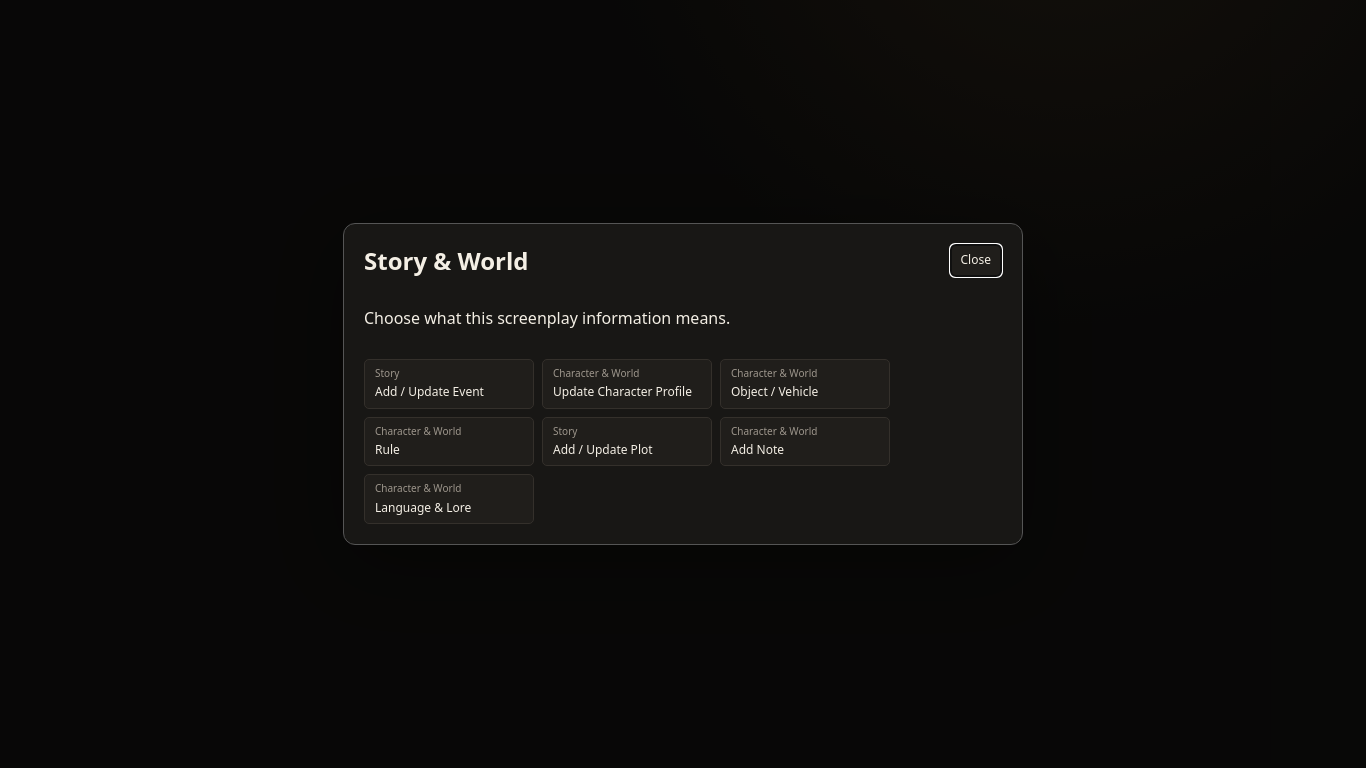
updates Vehicle condition from this Scene without changing its base description or screenplay source
Click the button "Character & World Object / Vehicle" at point(805, 384), box x1=720 y1=359 x2=890 y2=409
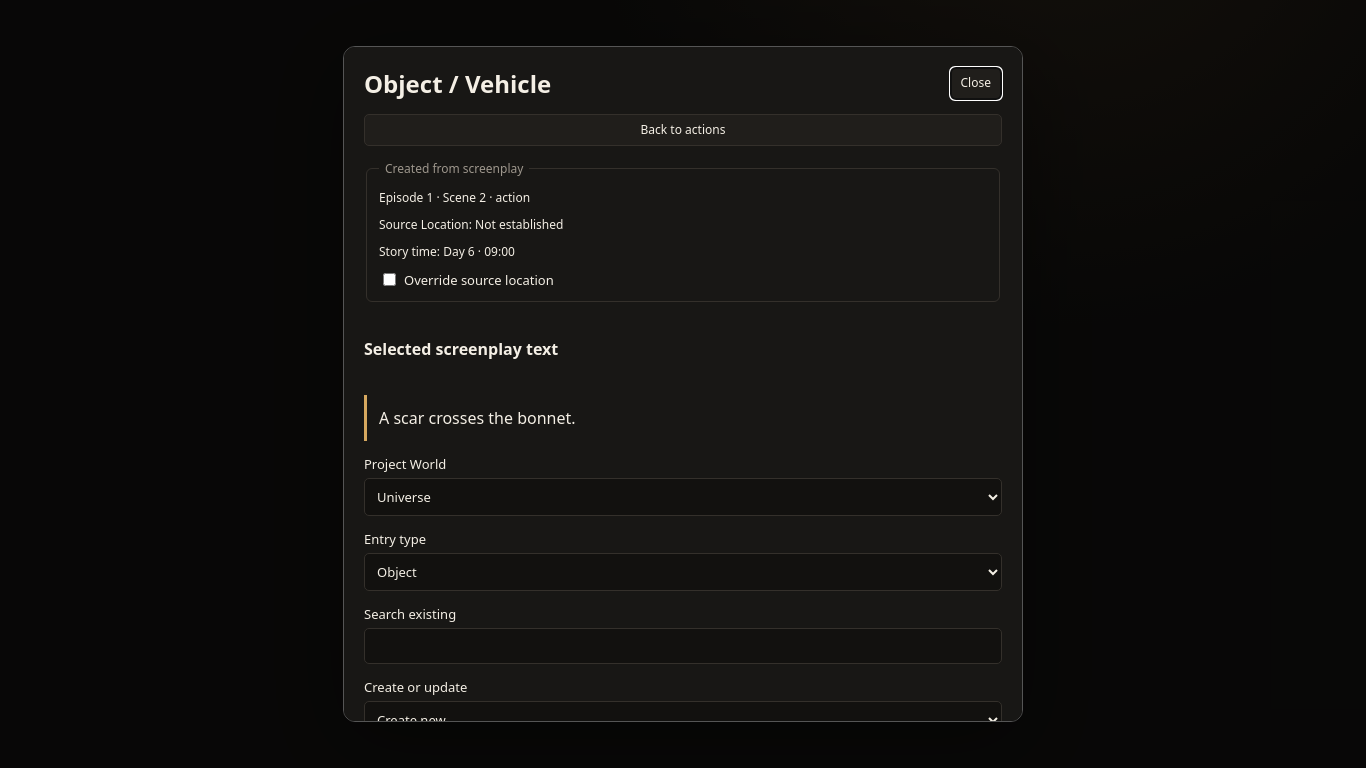
Select "Vehicle" in the dropdown labelled "Entry type" at point(683, 572), box x1=364 y1=553 x2=1002 y2=591
Select "Apple’s Car" in the dropdown labelled "Create or update" at point(683, 720), box x1=364 y1=701 x2=1002 y2=739
(page scrolled)
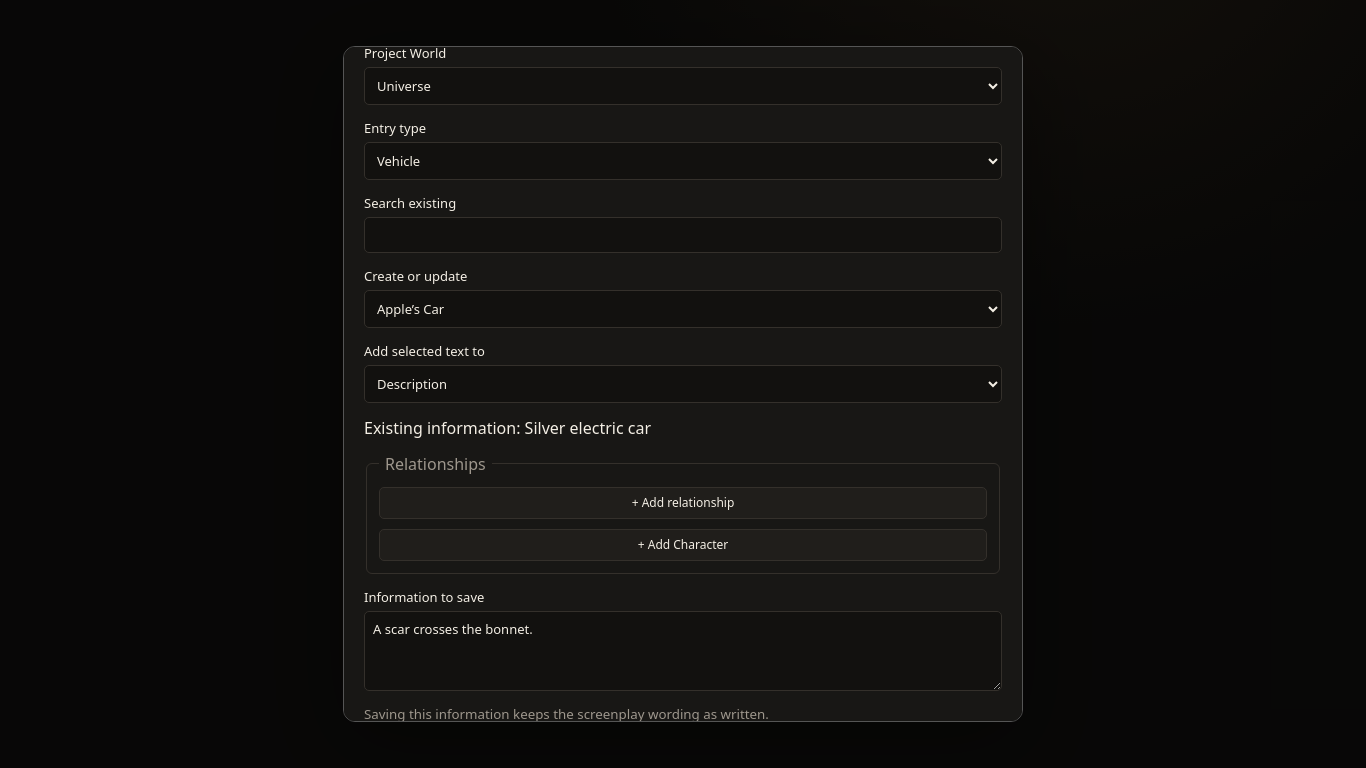
Select "Condition" in the dropdown labelled "Add selected text to" at point(683, 384), box x1=364 y1=365 x2=1002 y2=403
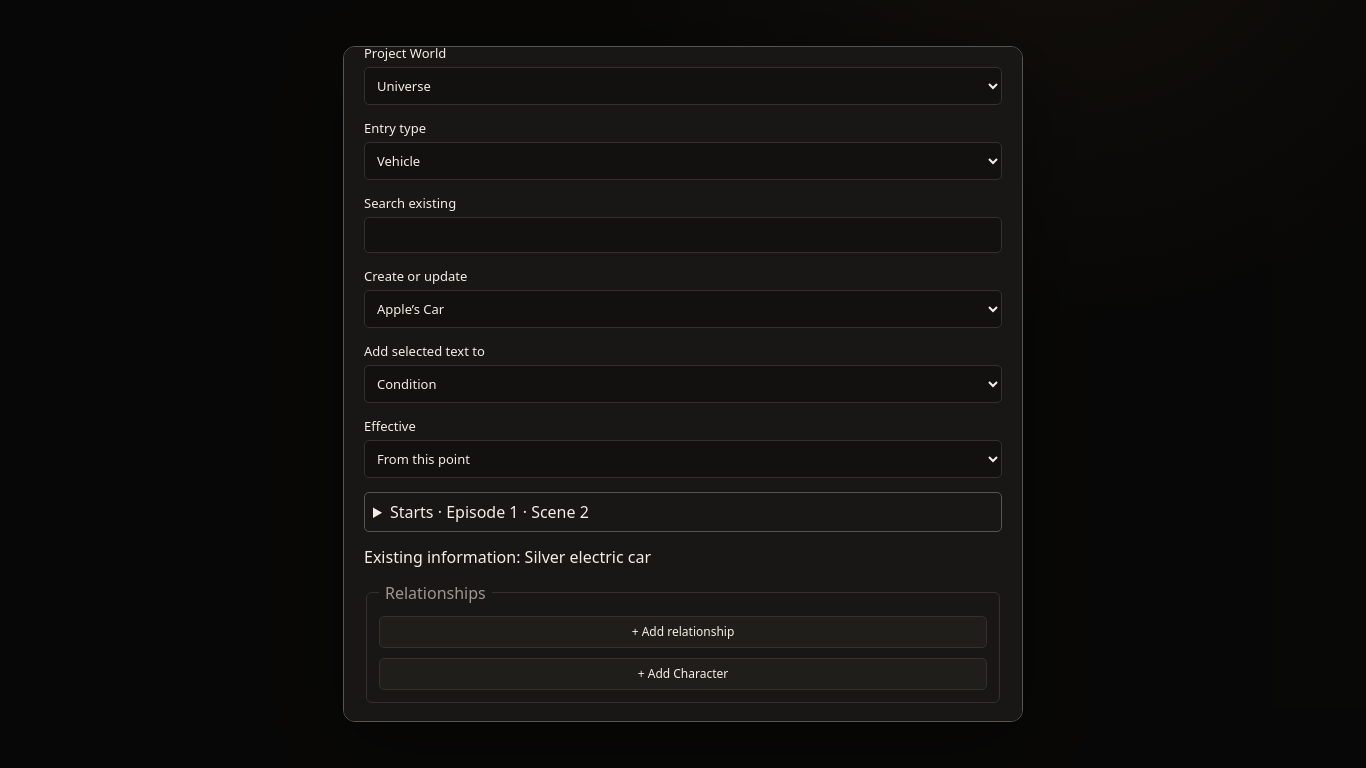
Select "From this point" in the dropdown labelled "Effective" at point(683, 459), box x1=364 y1=440 x2=1002 y2=478
(page scrolled)
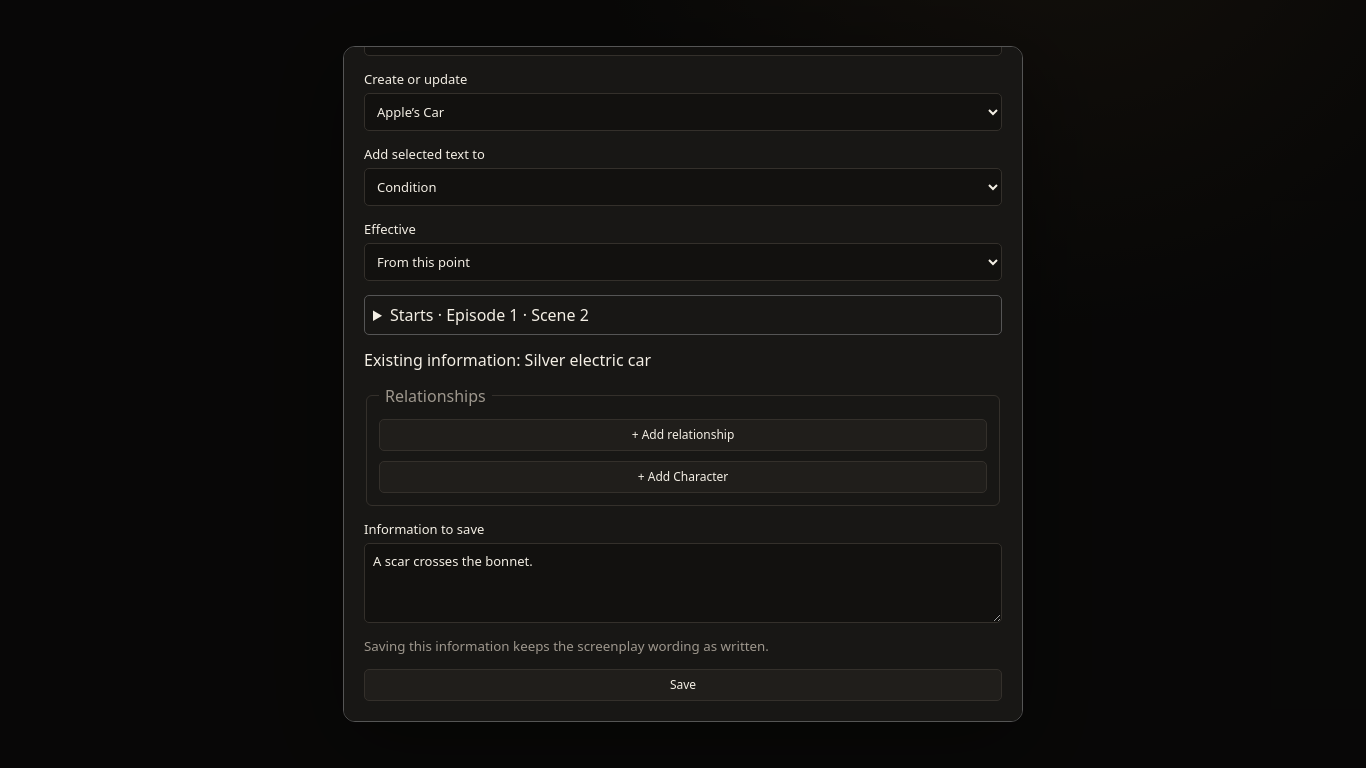
Replace the text in the text box labelled "Information to save" with "Bonnet scraped" at point(683, 583), box x1=364 y1=543 x2=1002 y2=623
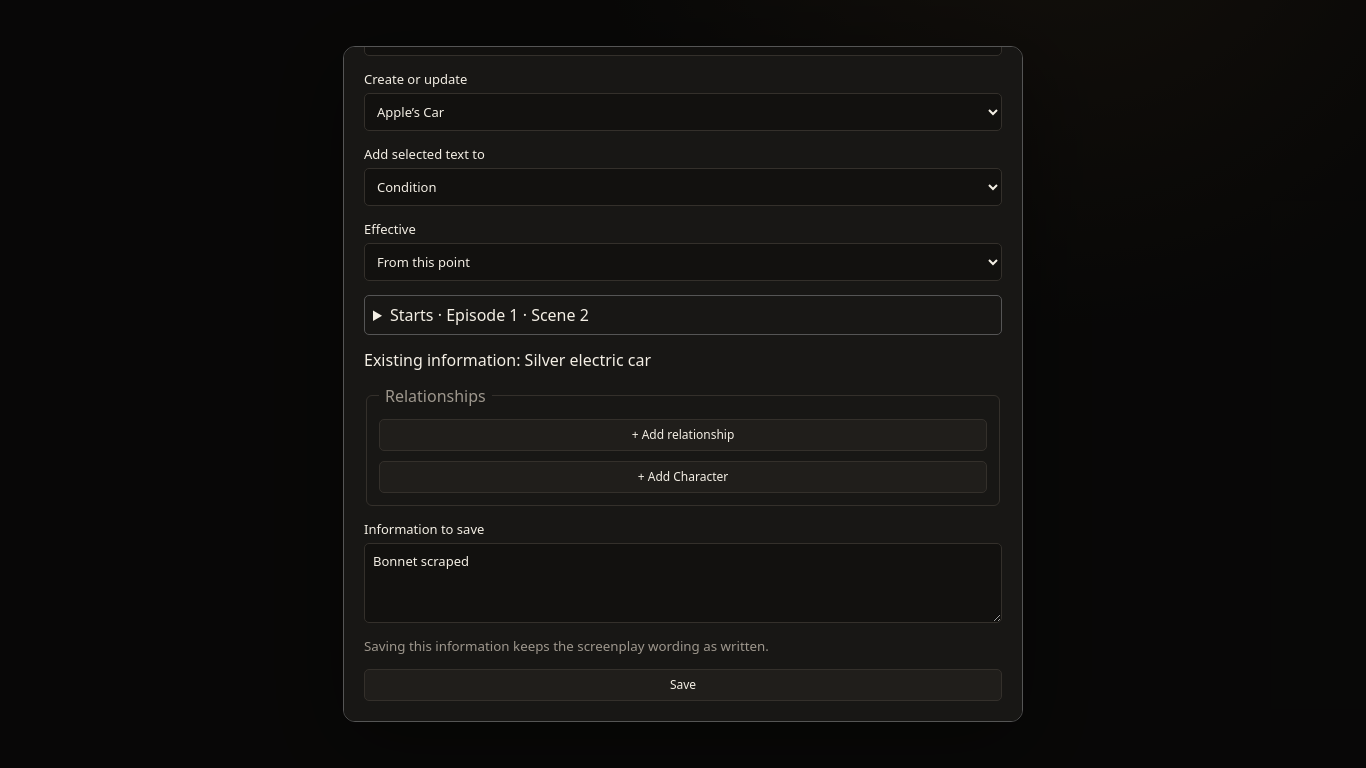
Click the button "Save" at point(683, 685), box x1=364 y1=669 x2=1002 y2=701
(page scrolled)
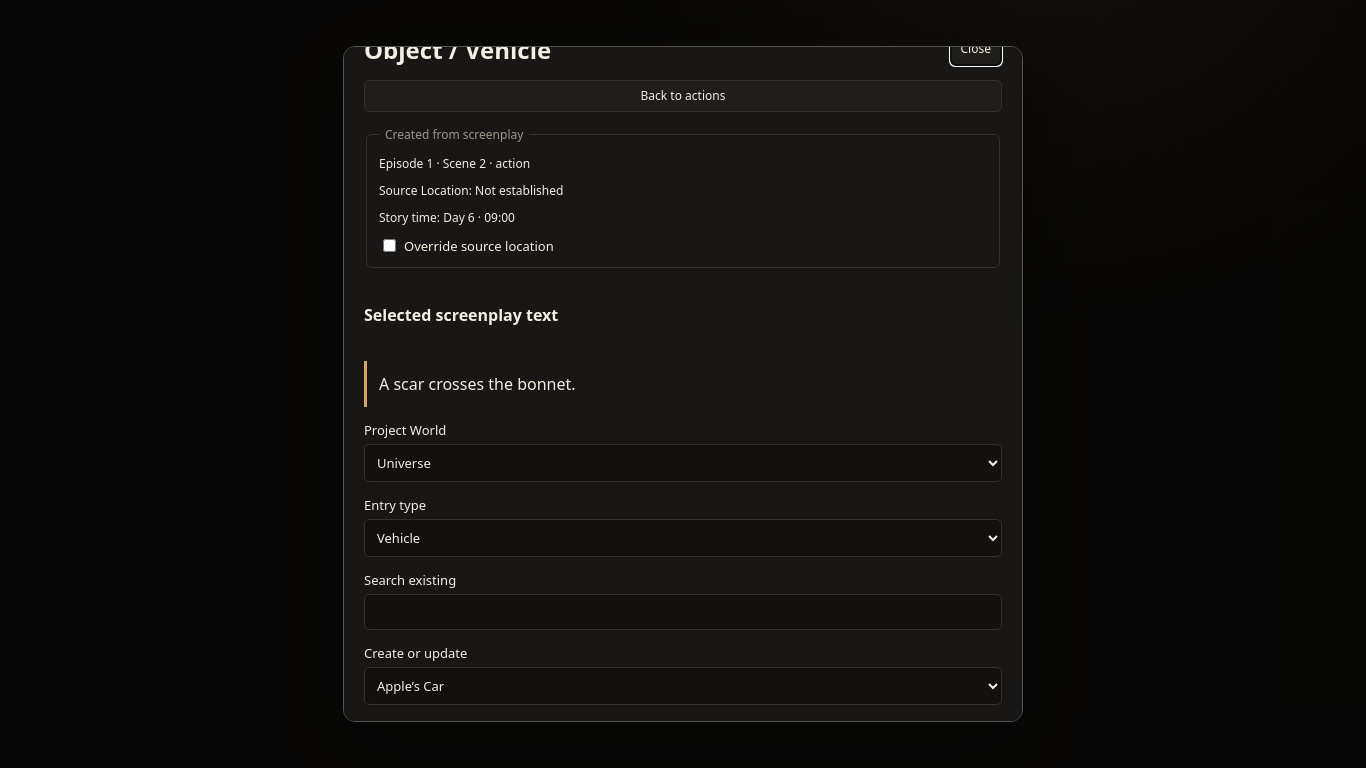
Check: the text "A scar crosses the bonnet." is shown, box x1=364 y1=361 x2=1002 y2=407
